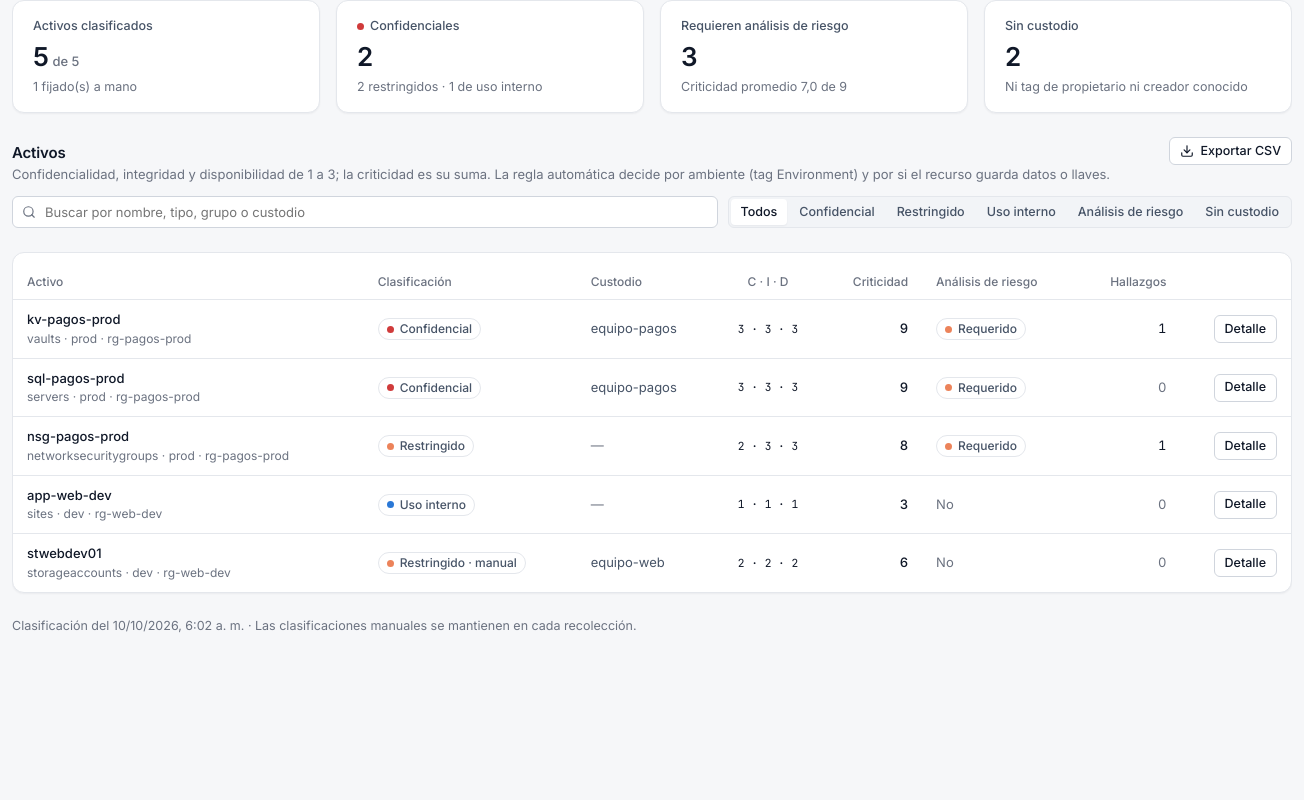
Test case: Clasificación de activos › filtra por clase, por custodio faltante y por texto
Check: the text "kv-pagos-prod" is shown, box x1=27 y1=311 x2=120 y2=327
Click the radio button labelled "Sin custodio".
click(1242, 212)  # box x1=1195 y1=199 x2=1289 y2=225
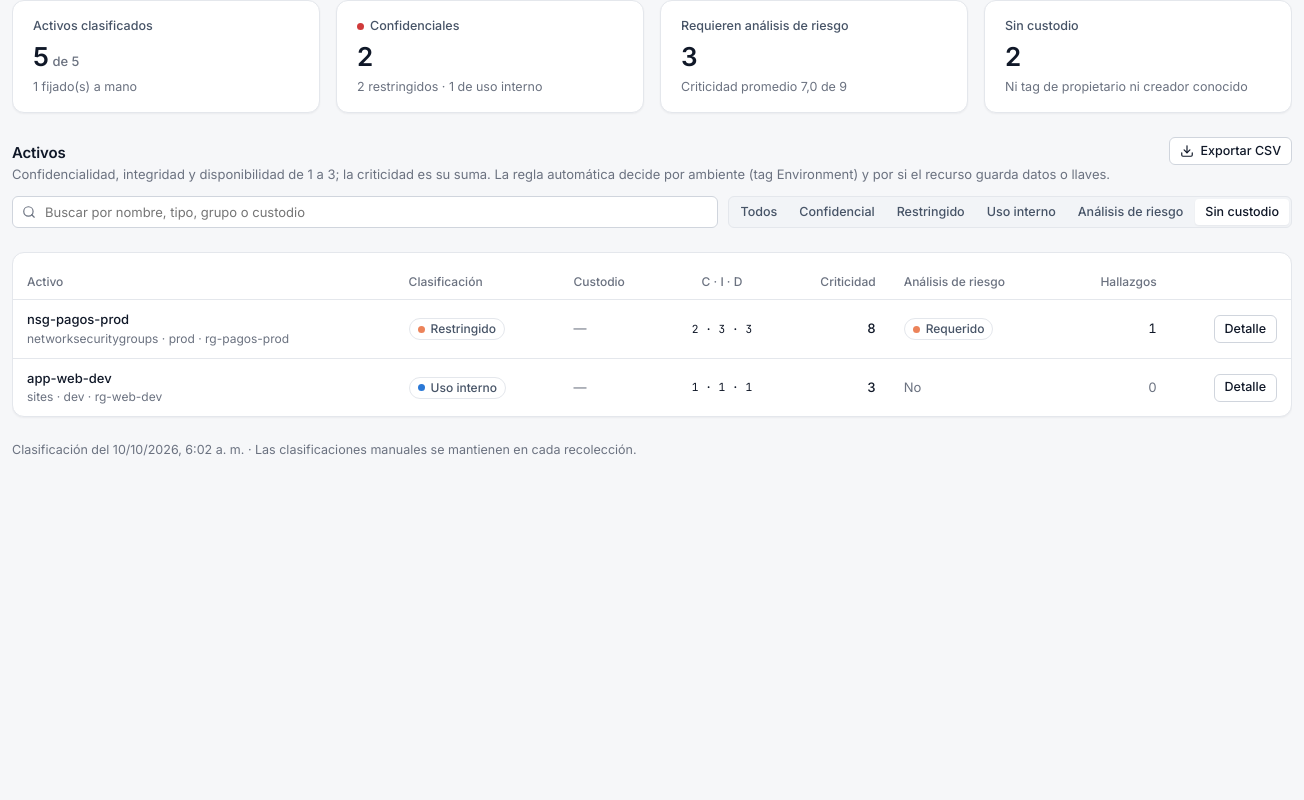
Click the radio button labelled "Todos".
click(759, 212)  # box x1=730 y1=199 x2=787 y2=225
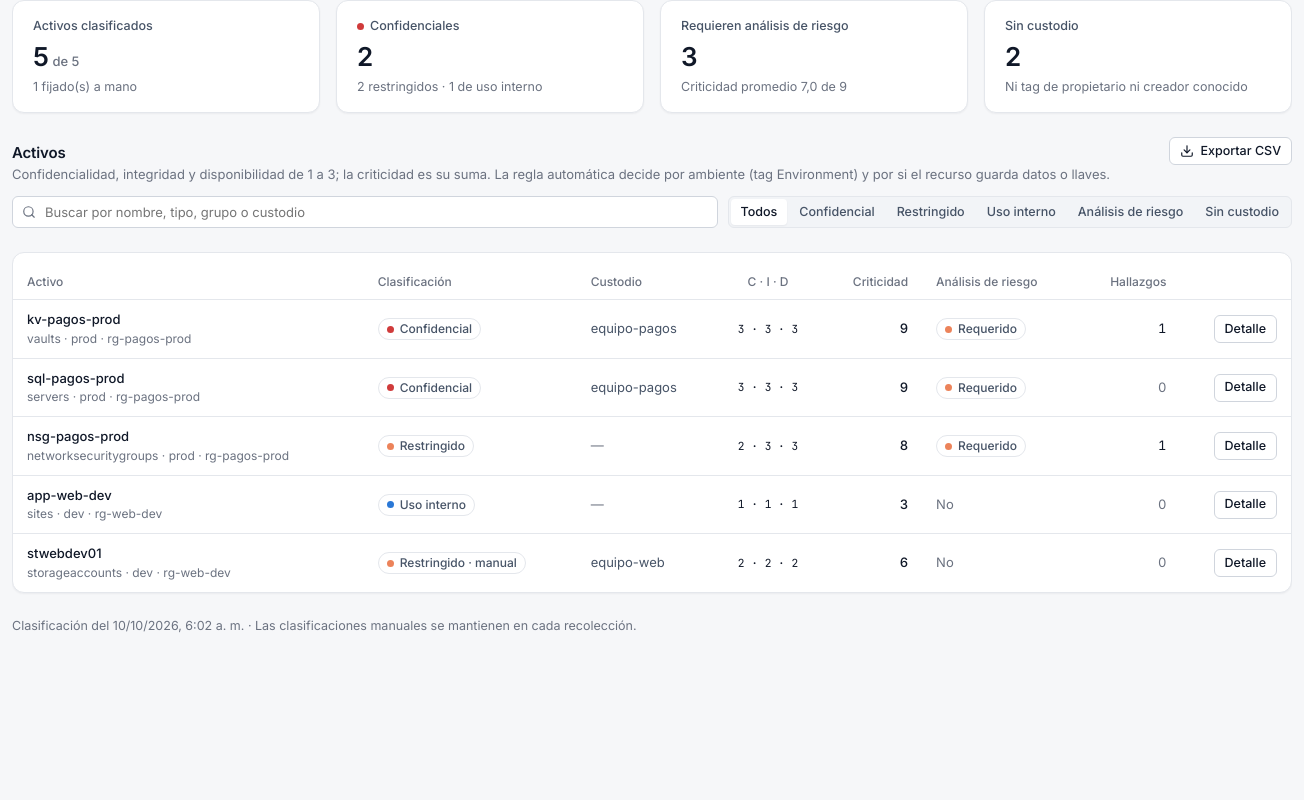
Type "EQUIPO-WEB" into the field with placeholder "Buscar por nombre, tipo, grupo o custodio".
click(365, 212); type("EQUIPO-WEB")  # box x1=12 y1=196 x2=718 y2=228
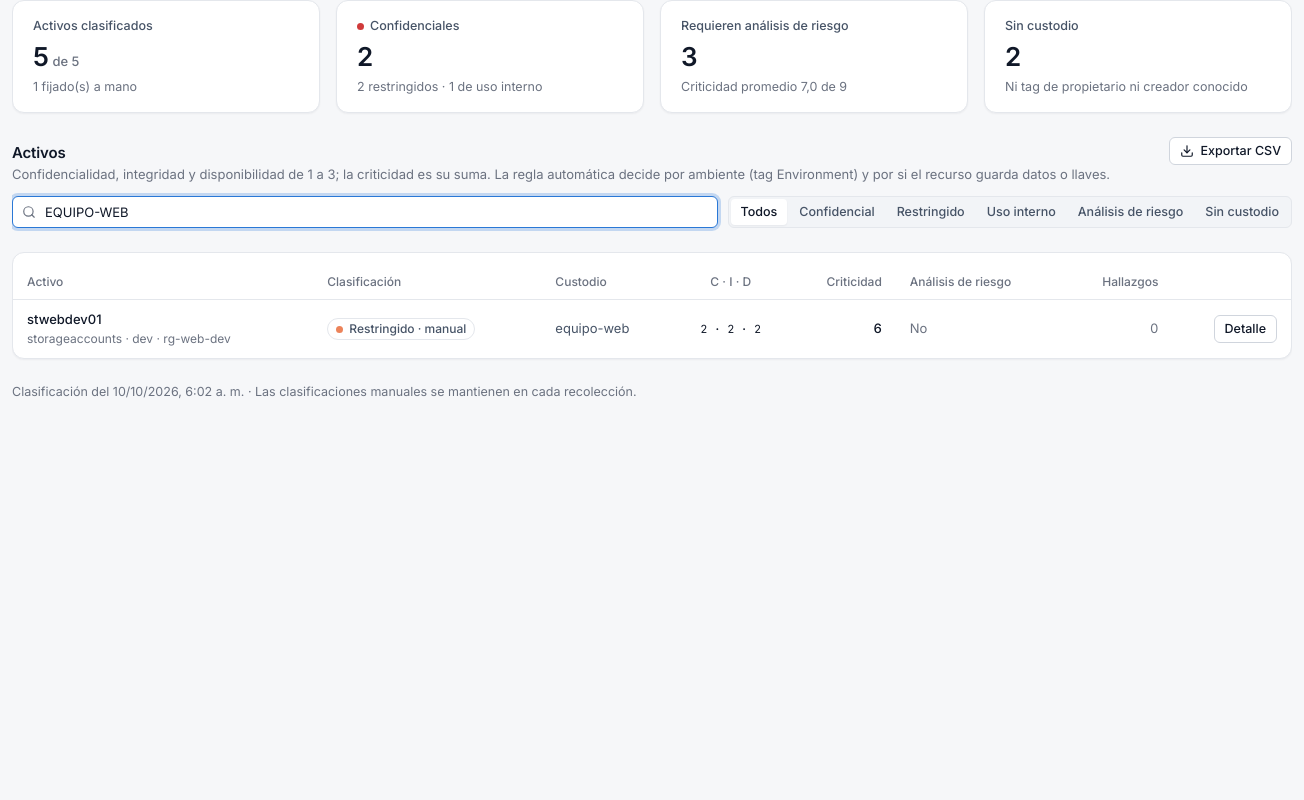
Check: the text "stwebdev01" is shown, box x1=27 y1=311 x2=102 y2=327
Check: the number of rows is 2, box x1=13 y1=265 x2=1291 y2=300; x1=13 y1=300 x2=1291 y2=358
Replace the text in the field with placeholder "Buscar por nombre, tipo, grupo o custodio" with "no-existe" at (365, 212), box x1=12 y1=196 x2=718 y2=228
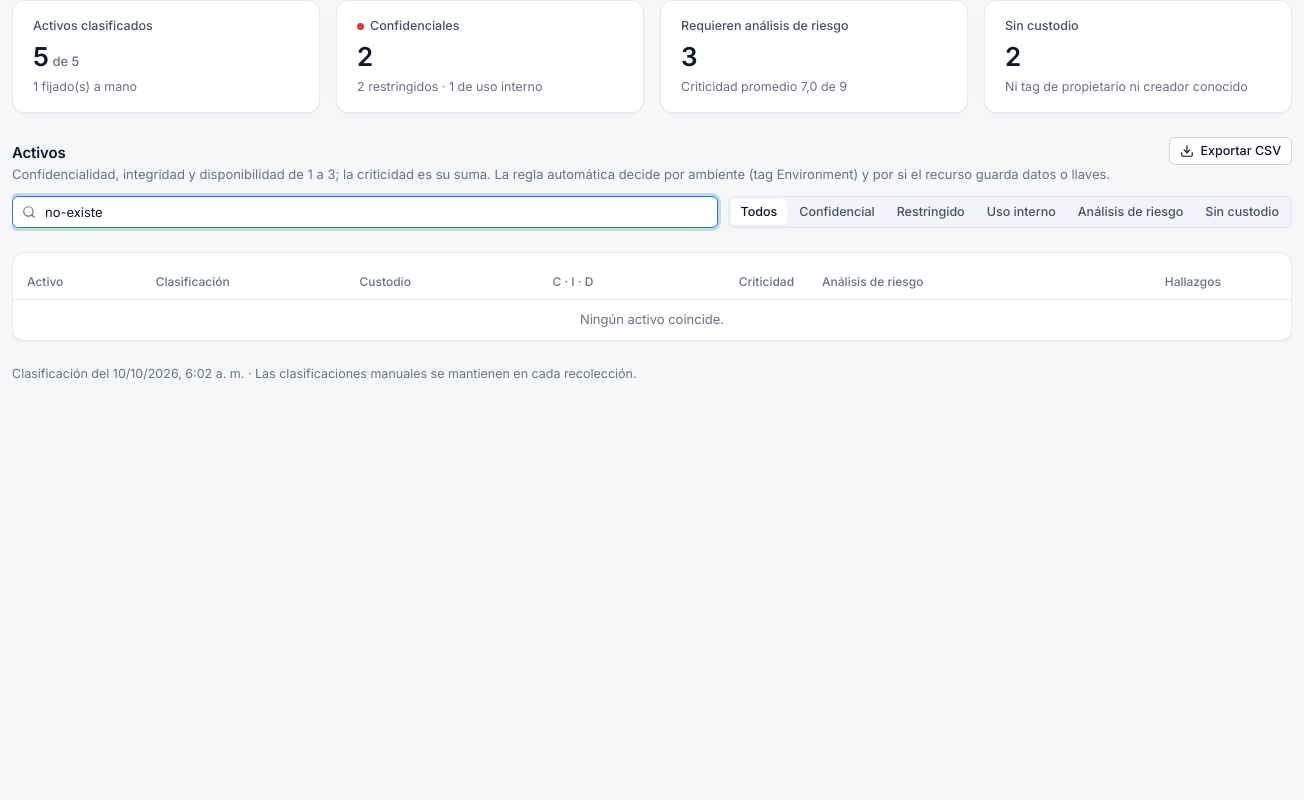
Check: the text "Ningún activo coincide." is shown, box x1=13 y1=300 x2=1291 y2=340
